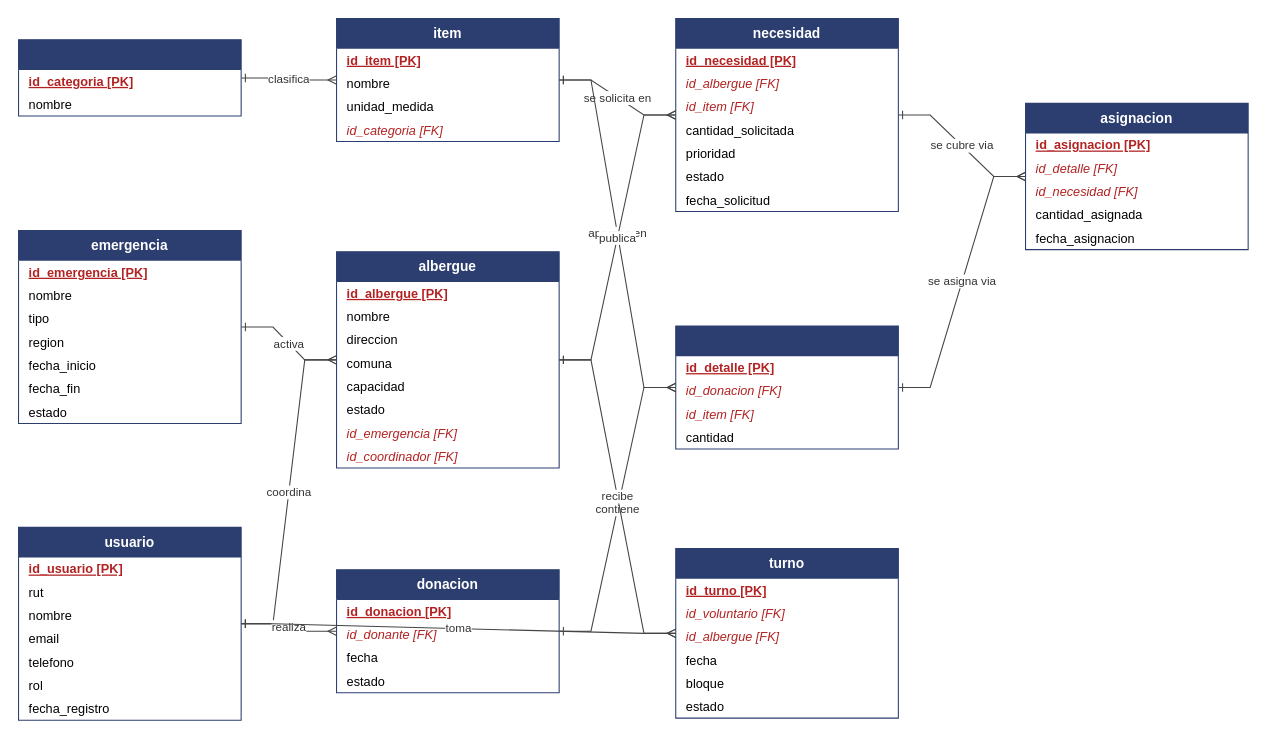
This 1267x739 diagram has some shape labels left out. The box of each missing label's shape, as (x1, y1, x2, y2) in pixels:
categoria_item: (17, 39, 241, 116)
donacion_detalle: (675, 325, 898, 449)
